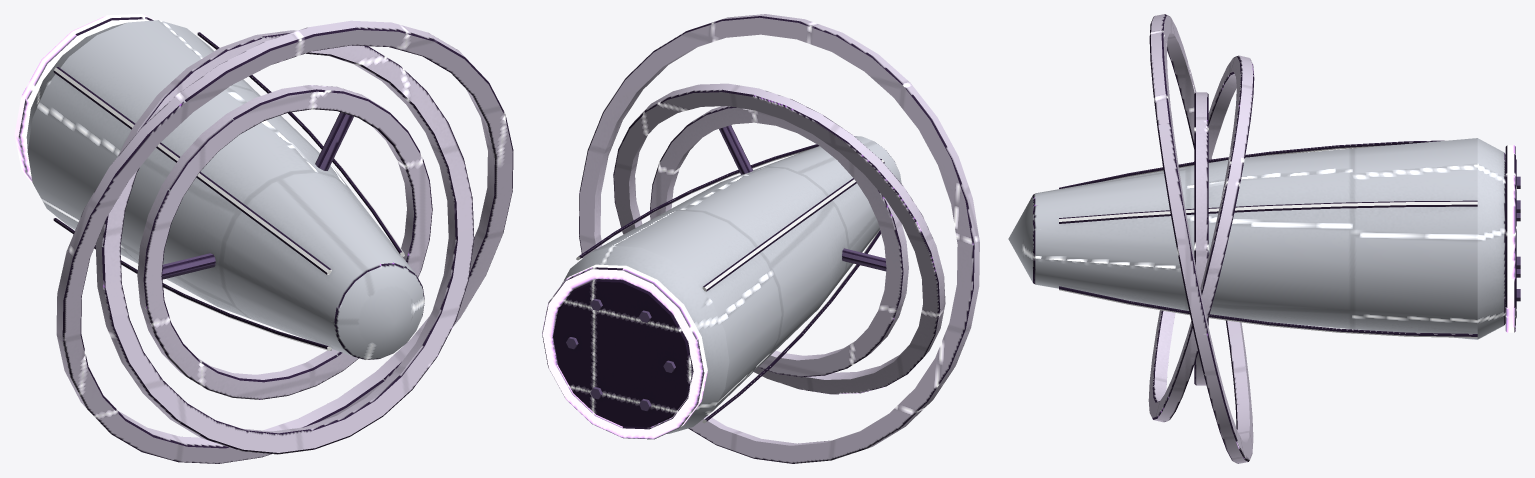
File: motor_warp_t5.fbx
The picture shows the model from 3 angles, left to right: view 1: azimuth 30°, elevation 25°; view 2: azimuth 150°, elevation 25°; view 3: azimuth 270°, elevation 25°; orthographic projection. The views are drawn at different scales.
Visible parts, largest first — view 1: motor_warp_t5_anillos, motor_warp_t5.001, motor_warp_t5_neon; view 2: motor_warp_t5.001, motor_warp_t5_anillos, motor_warp_t5_neon; view 3: motor_warp_t5.001, motor_warp_t5_anillos, motor_warp_t5_neon.
Part boxes in pixels (<box>): motor_warp_t5_anillos: <box>56,20,513,463</box>; motor_warp_t5.001: <box>14,14,424,359</box>; motor_warp_t5_neon: <box>54,34,404,350</box>; motor_warp_t5.001: <box>542,125,901,439</box>; motor_warp_t5_anillos: <box>579,14,979,463</box>; motor_warp_t5_neon: <box>576,148,884,423</box>; motor_warp_t5.001: <box>1008,138,1520,339</box>; motor_warp_t5_anillos: <box>1148,14,1254,463</box>; motor_warp_t5_neon: <box>1059,141,1477,337</box>.
Size of the model in its own units: 5.83 by 5.74 by 6.55.
